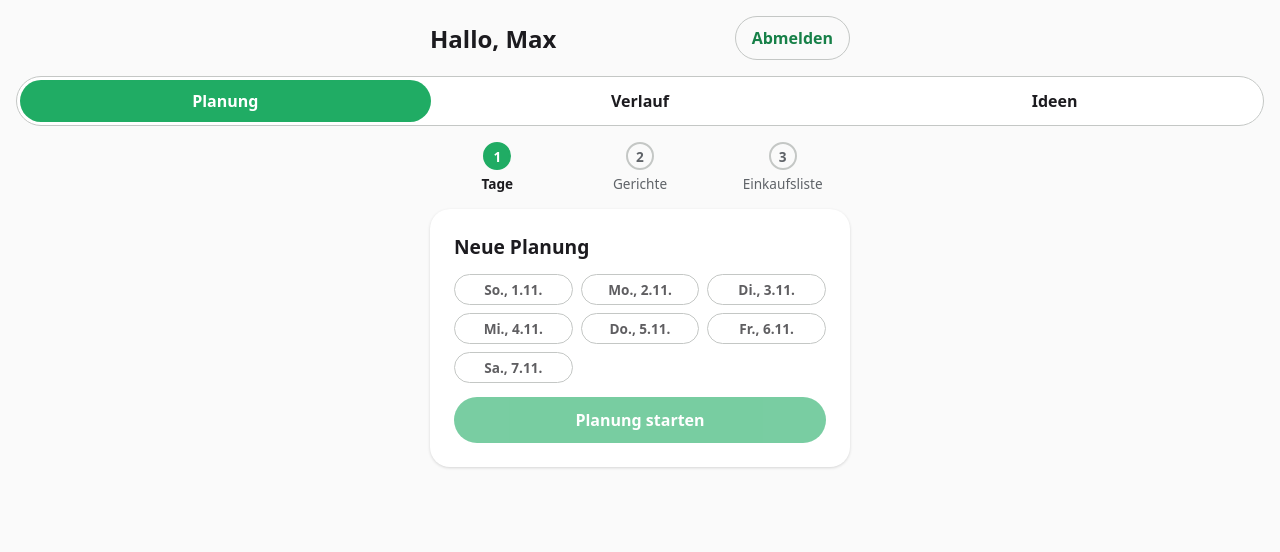
Test: the ideas tab › restores from the archive, and deletes for good only after a second tap
The image size is (1280, 552).
Click the button "Ideen" at point(1055, 101), box [849,80,1260,122]
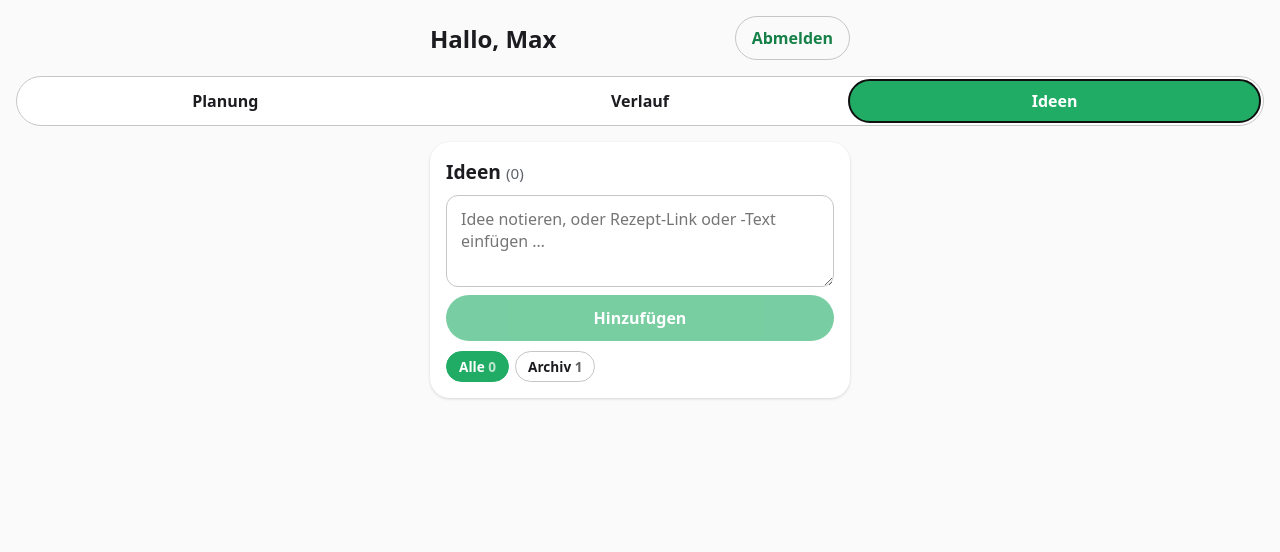
Click the button "Archiv 1" at point(555, 366), box [515,351,595,382]
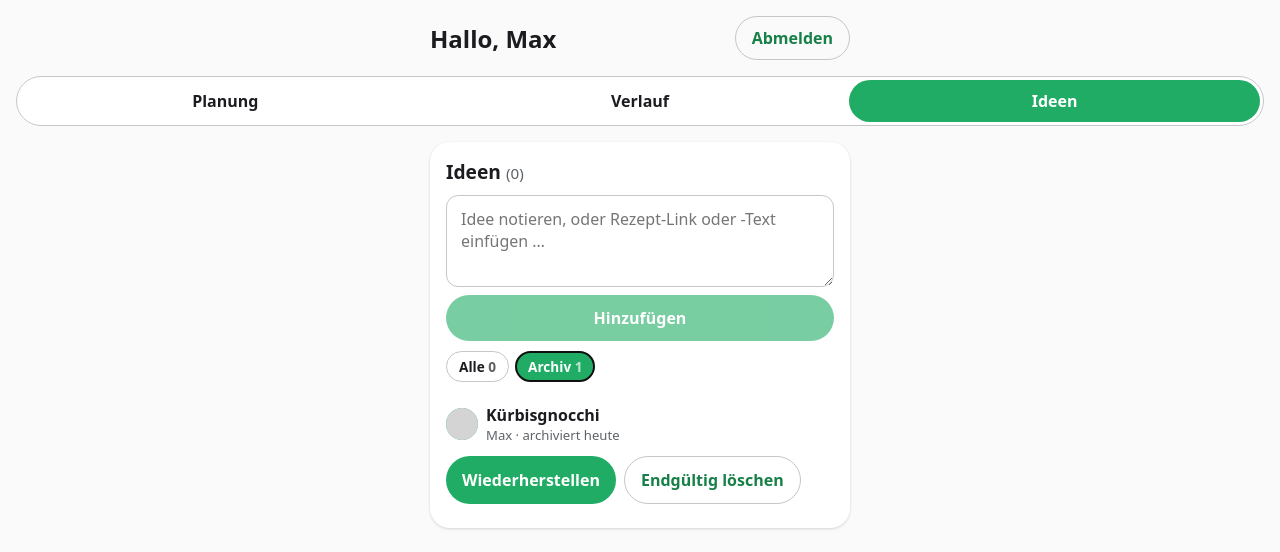
Click the button with aria-label "Kürbisgnocchi endgültig löschen" at point(712, 480), box [624,456,801,504]
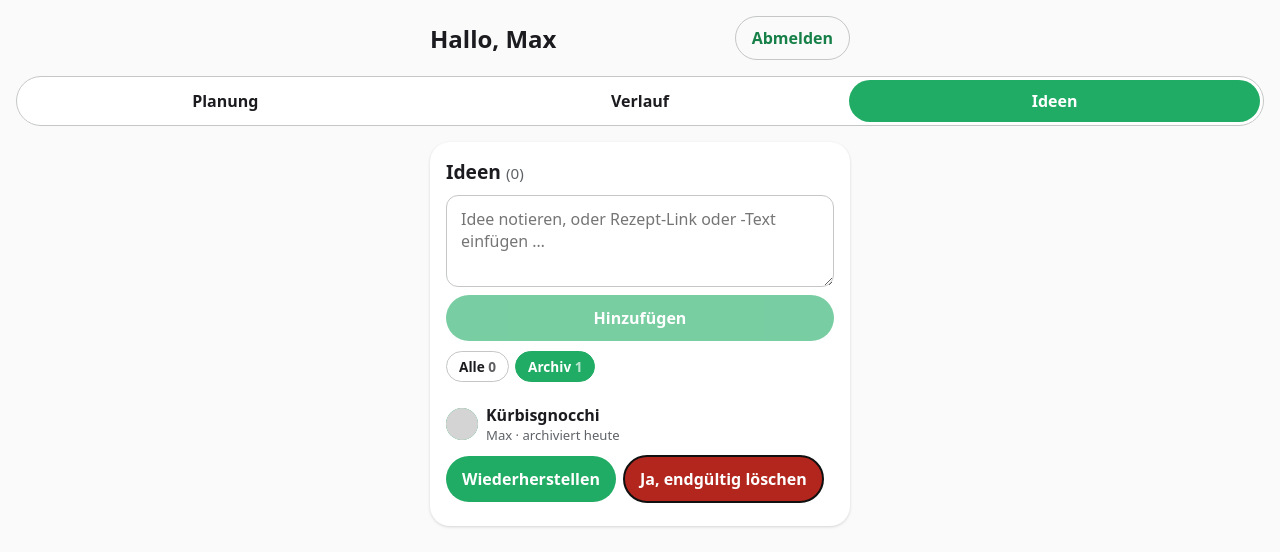
Click the button with aria-label "Kürbisgnocchi endgültig löschen bestätigen" at point(723, 479), box [624,456,823,502]
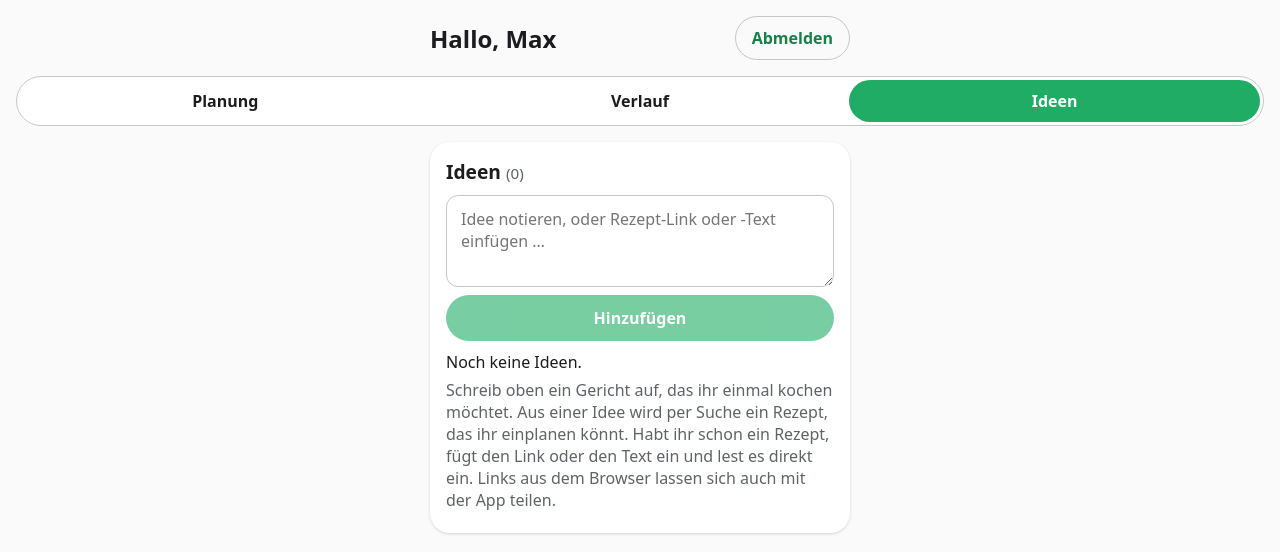
Expected: the text "Noch keine Ideen." is shown, [446,351,582,373]
